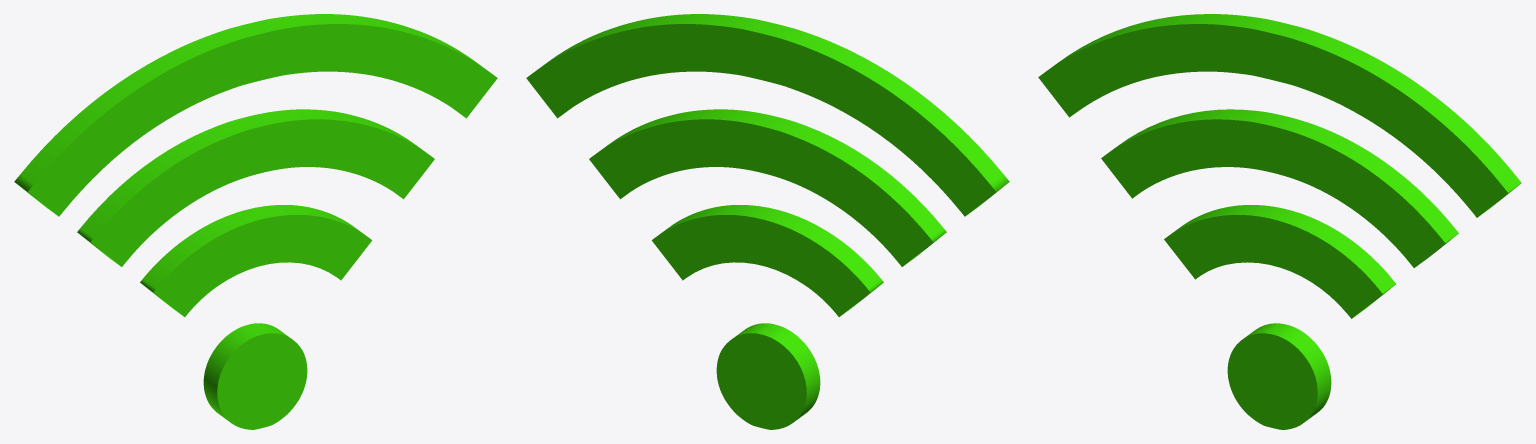
File: wifi.gltf
3 renders of one model, left to right at view 1: azimuth 30°, elevation 25°; view 2: azimuth 150°, elevation 25°; view 3: azimuth 330°, elevation 25°, orthographic.
Parts seen in each view (by area): view 1: Object_2; view 2: Object_2; view 3: Object_2.
Part boxes in pixels (x1,y1,x2,y2): Object_2: [14, 14, 497, 429]; Object_2: [526, 14, 1009, 429]; Object_2: [1038, 14, 1521, 429].
Bounding box in the file's own units: 0.1196 × 0.0959 × 0.006.
